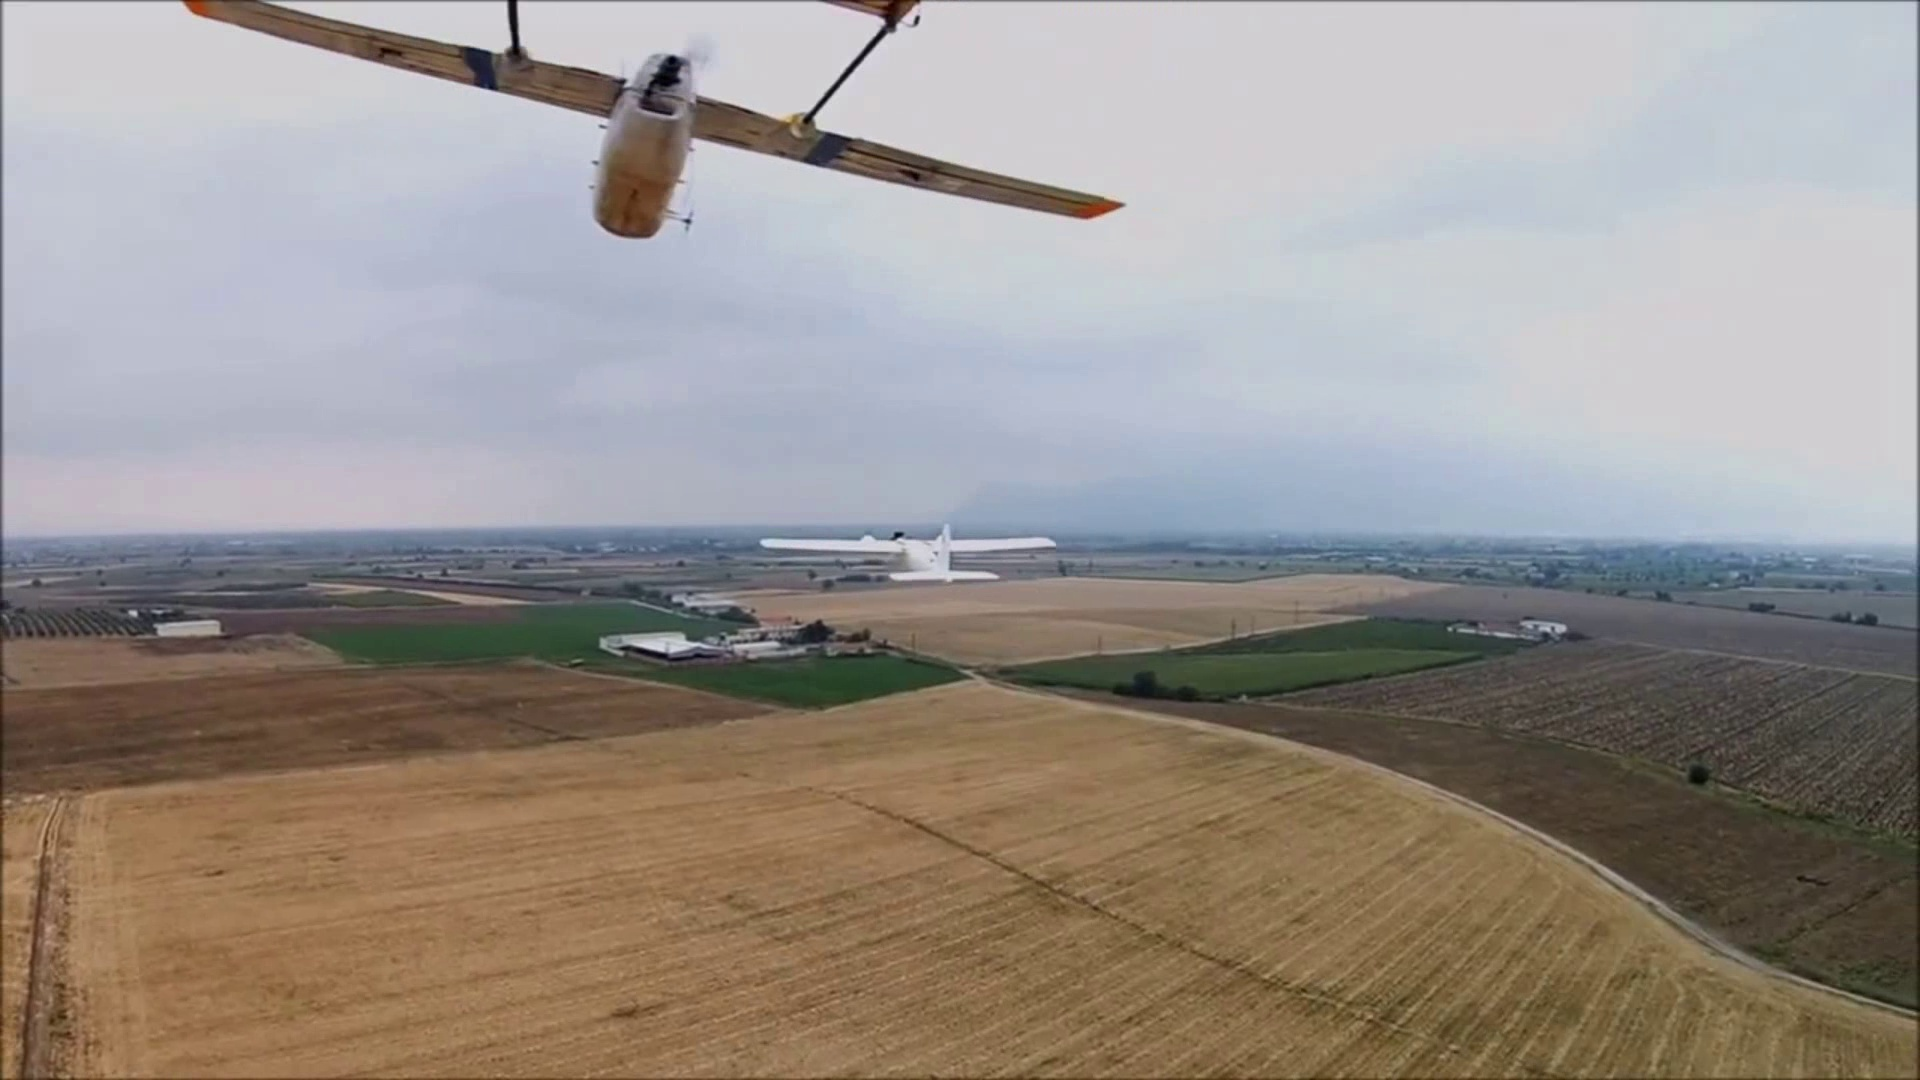airplane: (182, 0, 1124, 243)
